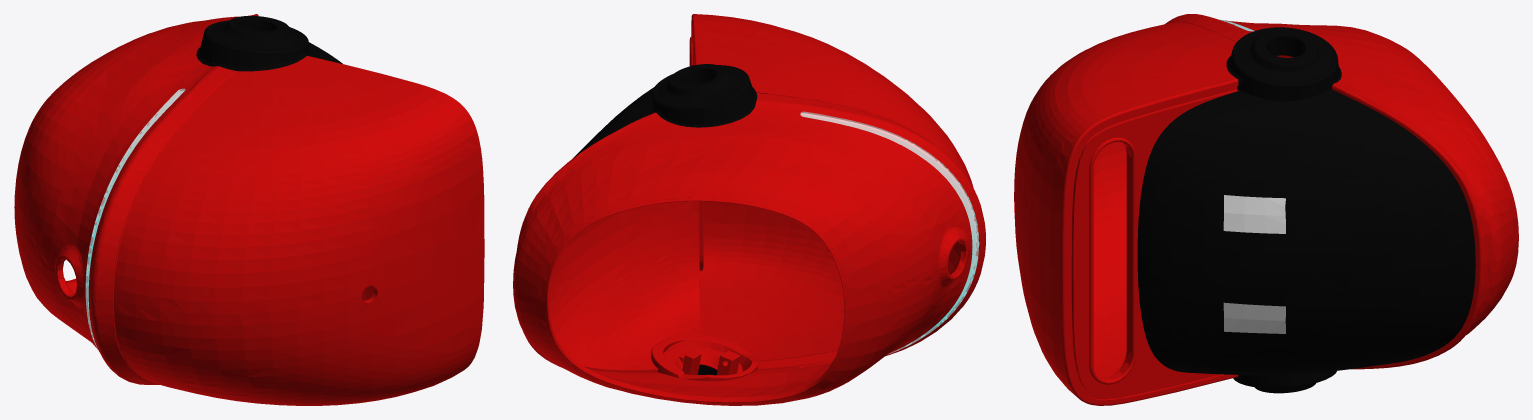
The model's file is head_pitch.glb.
3 renders of one model, left to right at view 1: azimuth 30°, elevation 25°; view 2: azimuth 150°, elevation 25°; view 3: azimuth 270°, elevation 25°, orthographic. The views are drawn at different scales.
Visible parts, largest first — view 1: head, light; view 2: head, light; view 3: head.
Boxes of the visible parts, left/top/right/bottom form: head: left=14, top=14, right=484, bottom=405; light: left=85, top=88, right=185, bottom=348; head: left=513, top=14, right=985, bottom=405; light: left=800, top=111, right=979, bottom=354; head: left=1014, top=14, right=1518, bottom=405.
Bounding box in the file's own units: 0.1827 × 0.1693 × 0.224.
